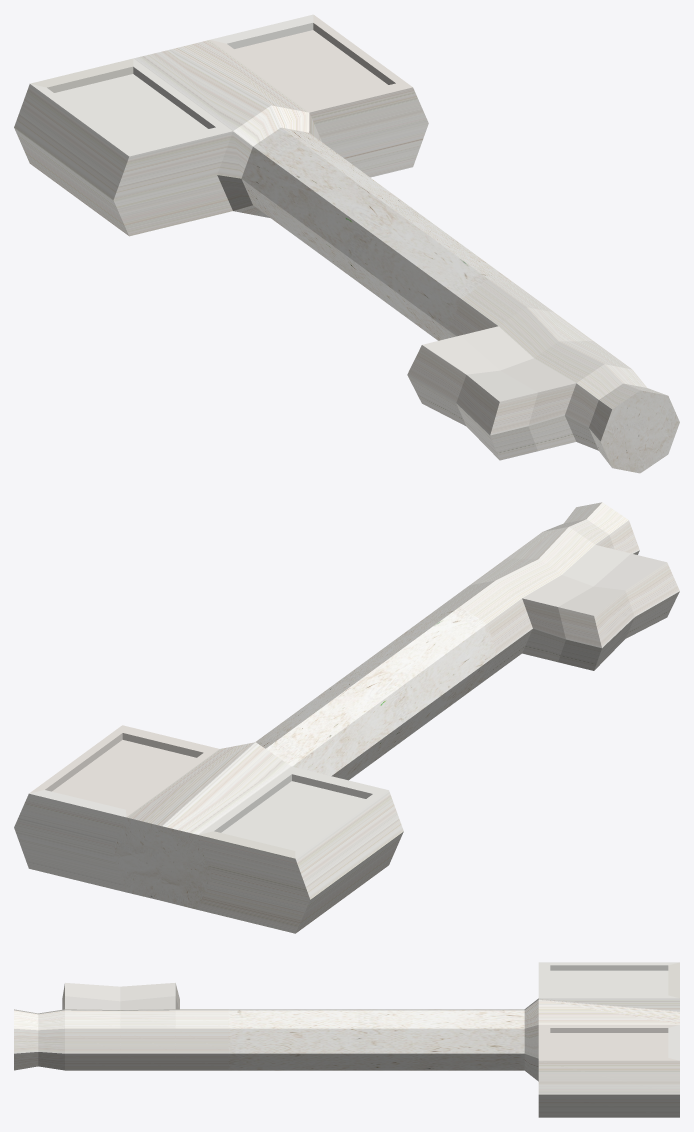
Rendered from key.glb.
3 renders of one model, top to bottom at view 1: azimuth 30°, elevation 25°; view 2: azimuth 150°, elevation 25°; view 3: azimuth 270°, elevation 25°, orthographic. The views are drawn at different scales.
Visible parts, largest first — view 1: Cylinder; view 2: Cylinder; view 3: Cylinder.
Boxes of the visible parts, x1,y1,x2,y2 form: Cylinder: (14,14,679,473); Cylinder: (14,502,679,933); Cylinder: (14,962,679,1117).
Size of the model in its own units: 1.03 by 0.3536 by 2.66.
Materials: 1 (1 with a texture image).
